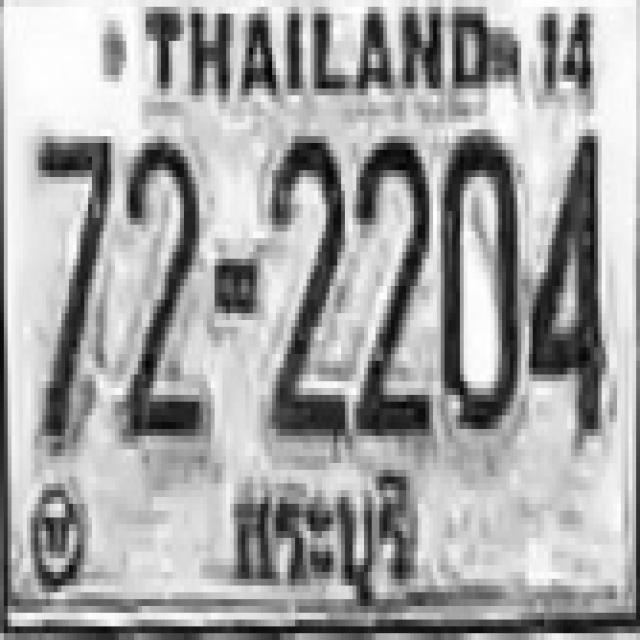0: (441, 129, 517, 436)
2: (117, 130, 201, 442), (266, 129, 343, 436), (354, 133, 428, 439)
4: (527, 126, 604, 439)
7: (33, 130, 113, 450)
SRI: (219, 461, 437, 619)
